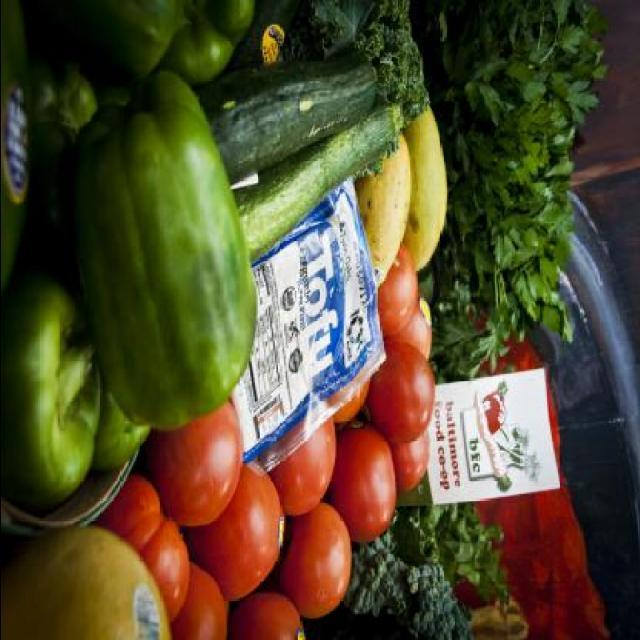Zucchini: (228, 96, 410, 276), (197, 48, 381, 188)
